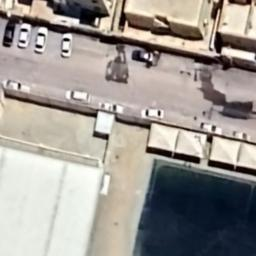sedan: (2, 20, 17, 48), (34, 26, 49, 54), (199, 120, 223, 136), (131, 48, 154, 64), (18, 22, 32, 48), (60, 32, 73, 58), (140, 108, 166, 120), (232, 130, 250, 142)
unknown: (2, 78, 32, 95)
van: (65, 90, 91, 104)
